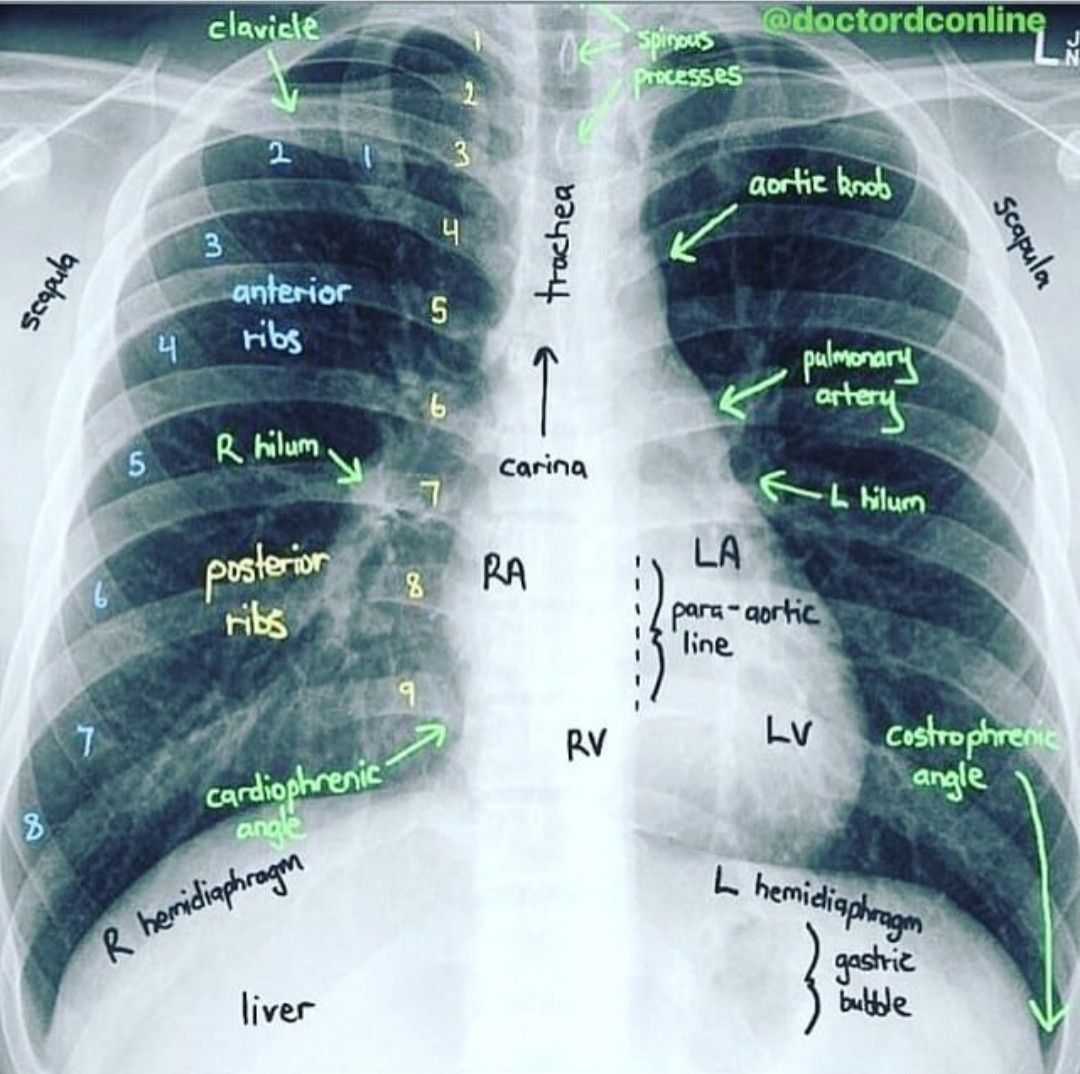telestration: (100, 853, 308, 959), (1005, 768, 1071, 1033), (712, 863, 924, 937), (196, 761, 388, 839), (880, 718, 1056, 797), (795, 343, 921, 435), (669, 598, 822, 659), (632, 27, 746, 103), (830, 943, 917, 1024), (991, 189, 1054, 298), (743, 163, 899, 202), (534, 177, 575, 308), (669, 196, 743, 268), (22, 247, 83, 331), (193, 10, 327, 43), (251, 46, 308, 120), (796, 920, 827, 1039), (829, 481, 934, 516), (719, 365, 780, 420), (575, 76, 622, 147), (756, 704, 818, 753), (235, 987, 321, 1022), (494, 452, 594, 482), (384, 721, 449, 766), (528, 346, 558, 439), (757, 468, 821, 511), (477, 547, 534, 592), (690, 535, 747, 572), (560, 720, 610, 760), (569, 35, 624, 65), (14, 809, 52, 846), (261, 138, 305, 169), (73, 720, 101, 764), (400, 565, 429, 604), (157, 328, 180, 370), (89, 571, 111, 614), (125, 448, 151, 483), (397, 681, 424, 714), (441, 209, 462, 250), (416, 477, 441, 509), (450, 137, 471, 171), (430, 293, 447, 335), (468, 27, 489, 58), (462, 75, 479, 113), (430, 381, 443, 421), (202, 227, 219, 257)
